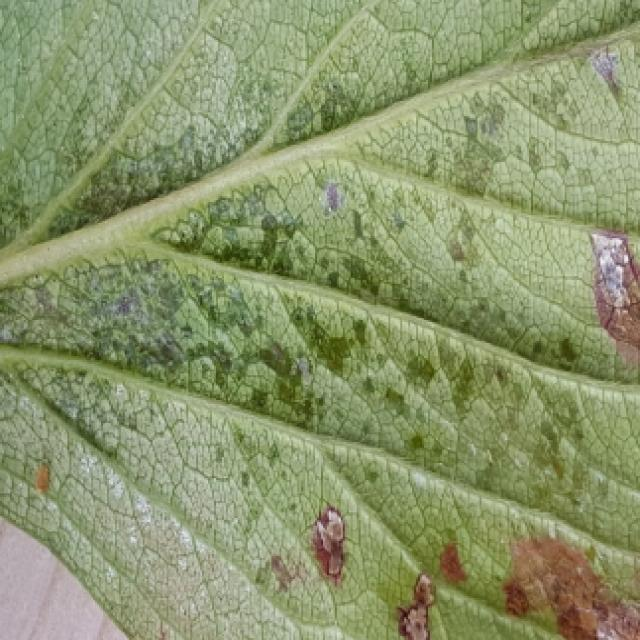Angular Leafspot: (0, 0, 640, 640)
